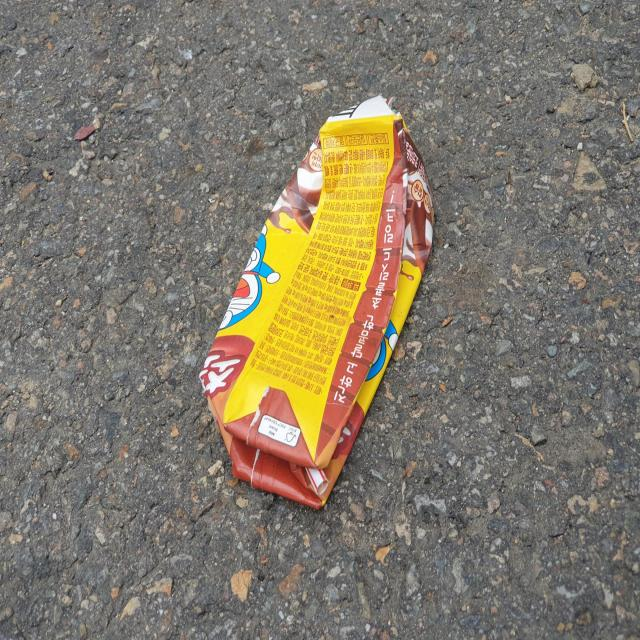paperpack: (200, 95, 434, 509)
